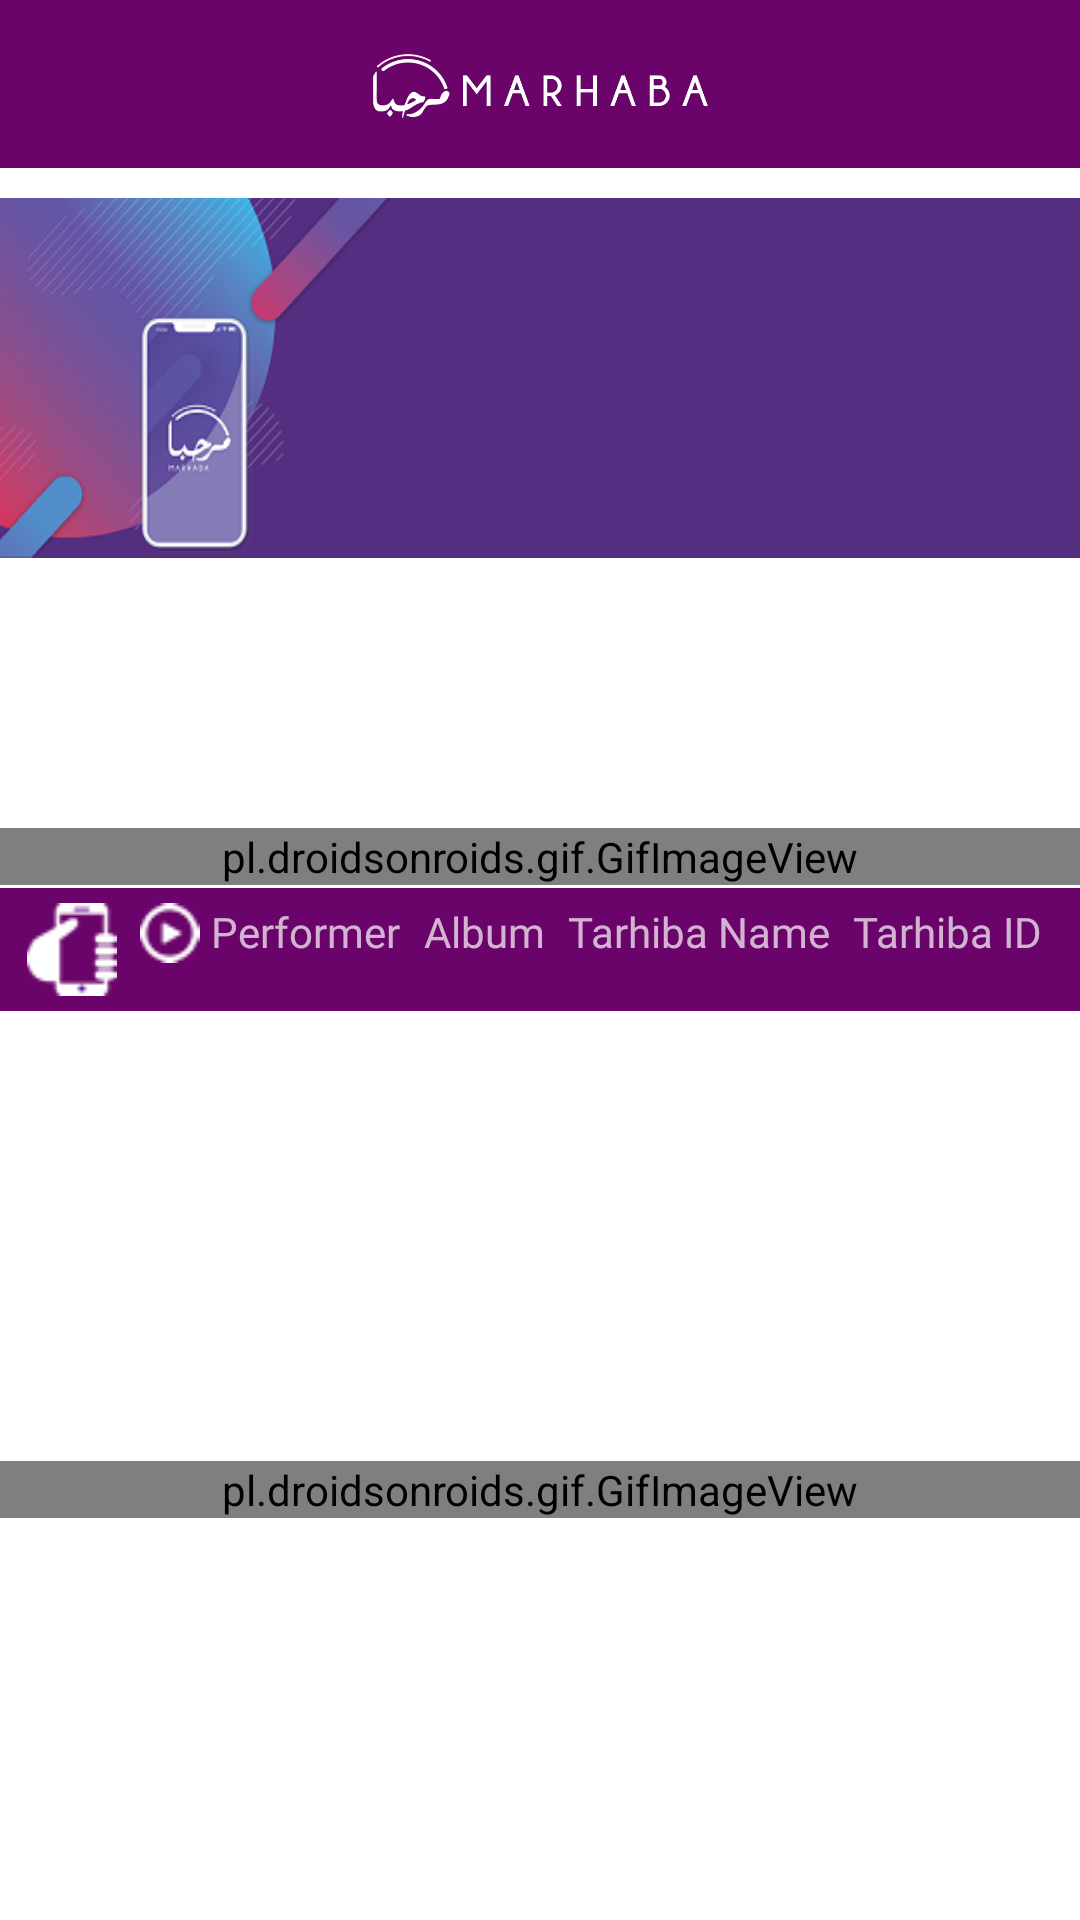

Icon click points for this 1080px×1920px phone screenshot, format (x=x, y=y):
phonehand: (x=72, y=949)
play: (x=170, y=933)
